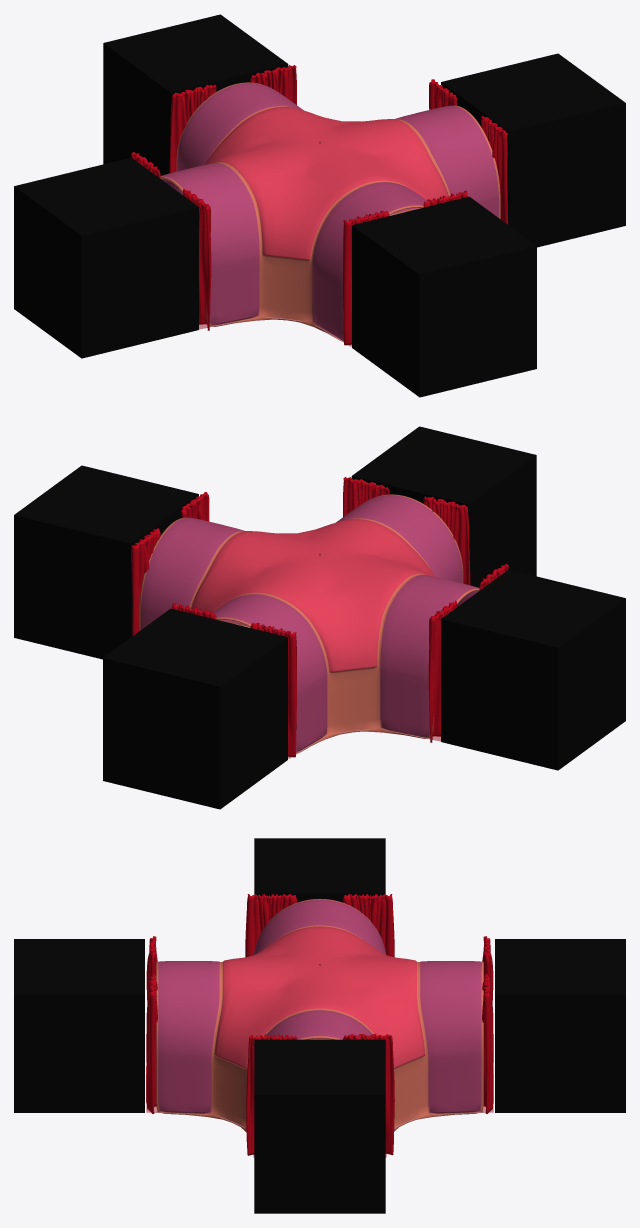
The model's file is cassino sala (1).fbx.
3 views of the same model, one above another, from view 1: azimuth 30°, elevation 25°; view 2: azimuth 150°, elevation 25°; view 3: azimuth 270°, elevation 25° (orthographic). The views are drawn at different scales.
Visible parts, largest first — view 1: Circle.001, Cube.002, Cube, Cube.001, Cube.003, Grid.001; view 2: Circle.001, Cube.003, Cube, Cube.001, Cube.002, Grid.001; view 3: Circle.001, Cube.001, Cube.002, Cube.003, Grid.001, Cube.
Part boxes in pixels (x1=…): Circle.001: x1=160, y1=82, x2=500, y2=341; Cube.002: x1=352, y1=196, x2=536, y2=397; Cube: x1=14, y1=157, x2=198, y2=358; Cube.001: x1=441, y1=53, x2=625, y2=247; Cube.003: x1=103, y1=14, x2=288, y2=175; Grid.001: x1=131, y1=65, x2=508, y2=345; Circle.001: x1=139, y1=494, x2=479, y2=753; Cube.003: x1=103, y1=608, x2=287, y2=809; Cube: x1=441, y1=569, x2=625, y2=770; Cube.001: x1=14, y1=465, x2=198, y2=659; Cube.002: x1=351, y1=426, x2=536, y2=587; Grid.001: x1=131, y1=477, x2=508, y2=757; Circle.001: x1=156, y1=898, x2=483, y2=1132; Cube.001: x1=254, y1=1039, x2=385, y2=1213; Cube.002: x1=14, y1=939, x2=144, y2=1112; Cube.003: x1=495, y1=939, x2=625, y2=1112; Grid.001: x1=146, y1=893, x2=493, y2=1155; Cube: x1=254, y1=838, x2=385, y2=902.
Bounding box in the file's own units: 927 × 207 × 934.
